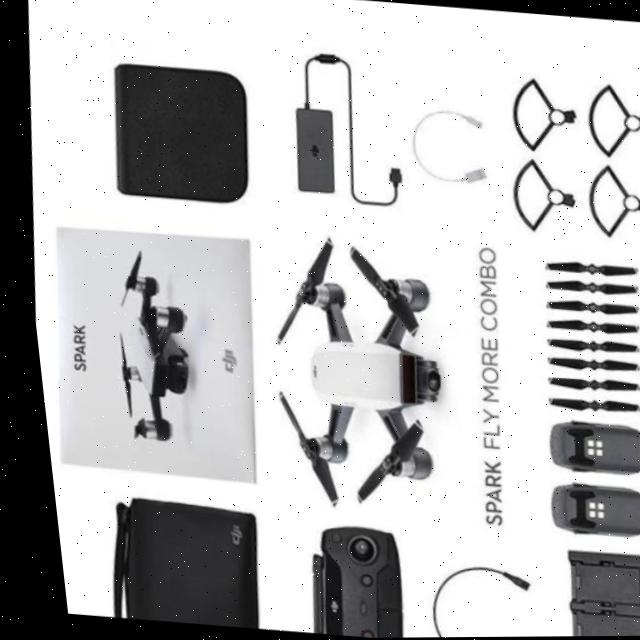drones: (227, 252, 448, 521), (48, 242, 224, 452)
